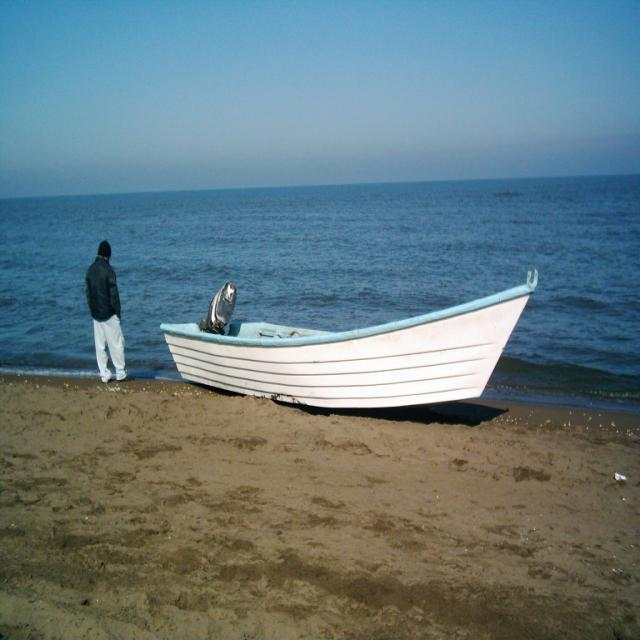Boat: (141, 258, 568, 414)
